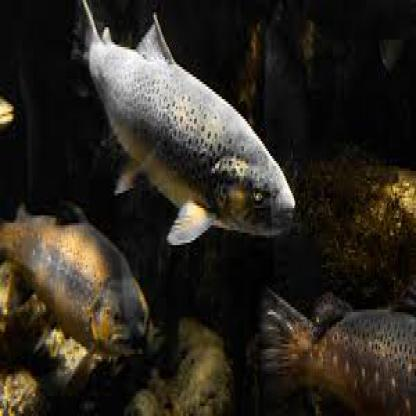fish: (64, 1, 294, 245), (0, 206, 150, 366)
